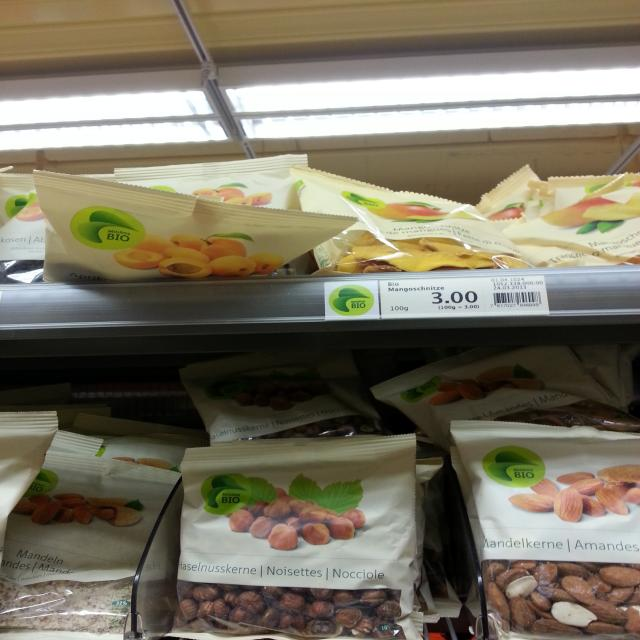DriedFruitsAndNuts: (170, 431, 420, 640), (446, 416, 640, 640), (22, 168, 350, 280), (0, 442, 180, 632), (296, 162, 545, 270)
